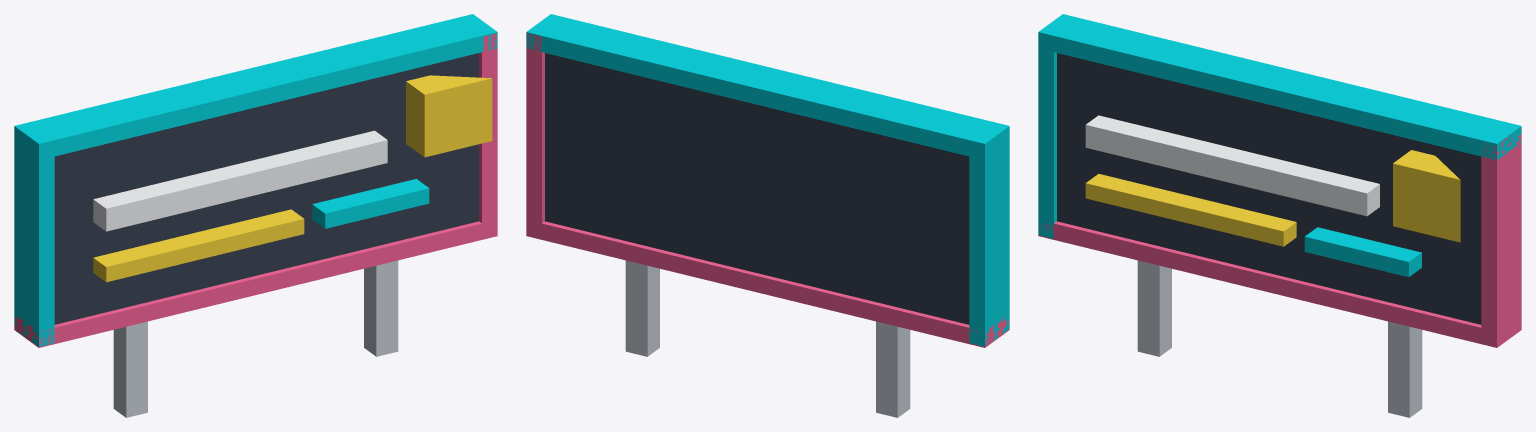
The model's file is Sign_Block.fbx.
3 views of the same model, side by side, from view 1: azimuth 30°, elevation 25°; view 2: azimuth 150°, elevation 25°; view 3: azimuth 330°, elevation 25° (orthographic).
Parts seen in each view (by area): view 1: Sign_Block; view 2: Sign_Block; view 3: Sign_Block.
Boxes of the visible parts, box(x1,y1,x2,y2) form: Sign_Block: box(14, 14, 497, 417); Sign_Block: box(526, 14, 1009, 417); Sign_Block: box(1038, 14, 1521, 417).
Bounding box in the file's own units: 880 × 552 × 134.
